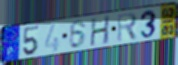3: (139, 8, 159, 41)
4: (43, 22, 61, 53)
5: (22, 24, 40, 58)
6: (68, 20, 88, 49)
H: (89, 14, 111, 48)
R: (116, 12, 139, 44)
